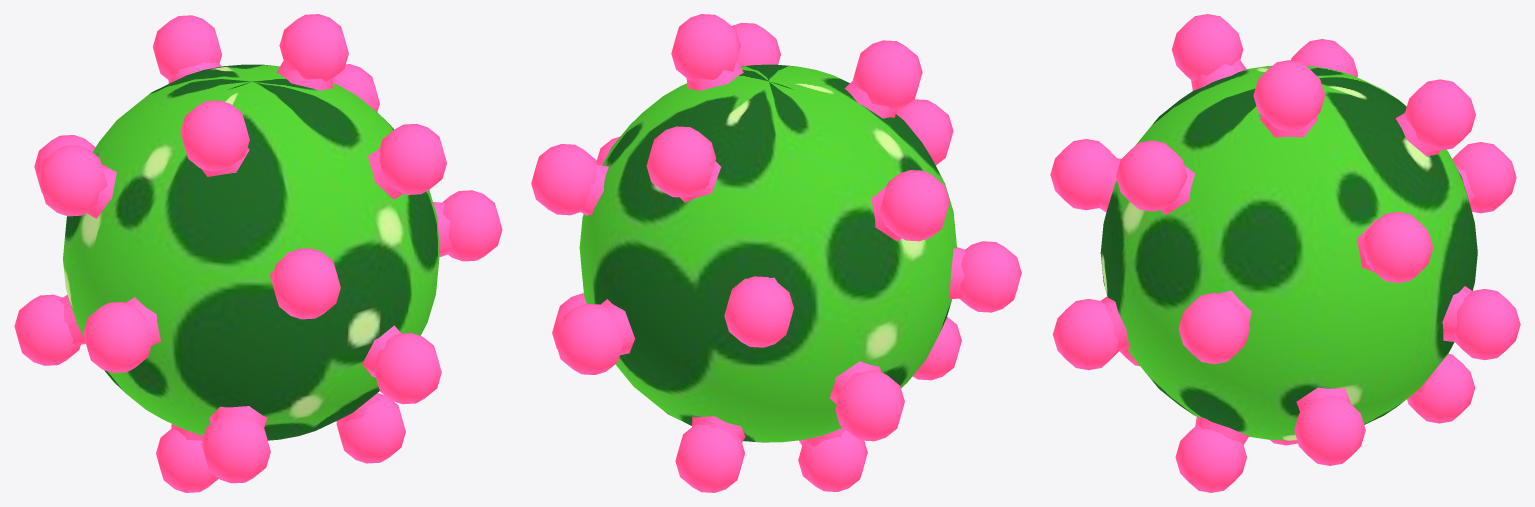
The model's file is pp_ball.glb.
The picture shows the model from 3 angles, left to right: view 1: azimuth 30°, elevation 25°; view 2: azimuth 150°, elevation 25°; view 3: azimuth 270°, elevation 25°; orthographic projection.
Parts seen in each view (by area): view 1: Ball, Spikes; view 2: Ball, Spikes; view 3: Ball, Spikes.
Boxes of the visible parts, left/top/right/bottom form: Ball: left=63, top=64, right=439, bottom=440; Spikes: left=14, top=14, right=502, bottom=492; Ball: left=579, top=64, right=956, bottom=442; Spikes: left=531, top=14, right=1021, bottom=492; Ball: left=1100, top=65, right=1477, bottom=440; Spikes: left=1050, top=14, right=1520, bottom=492.
Size of the model in its own units: 0.0254 by 0.0257 by 0.0249.
Materials: 2 (1 with a texture image).
